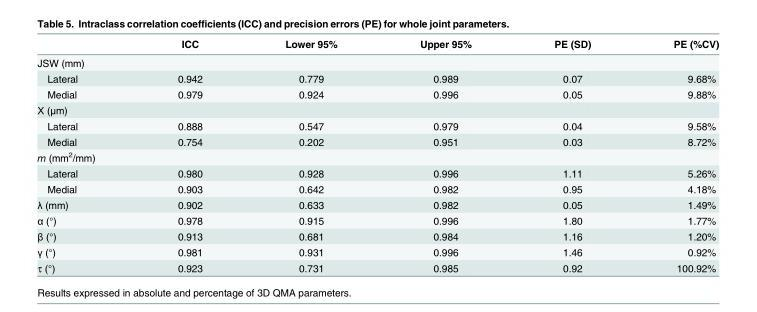table: (36, 37, 718, 273)
table column: (377, 37, 512, 273), (243, 37, 377, 273), (512, 37, 631, 273), (135, 37, 243, 273), (36, 37, 135, 273), (631, 37, 718, 273)
table column header: (36, 37, 718, 52)
table projected row header: (36, 52, 718, 70), (36, 148, 718, 165), (36, 101, 718, 117)
table row: (36, 52, 718, 70), (36, 148, 718, 165), (36, 70, 718, 86), (36, 101, 718, 117), (36, 117, 718, 133), (36, 180, 718, 196), (36, 196, 718, 212), (36, 212, 718, 228), (36, 243, 718, 259), (36, 37, 718, 52), (36, 86, 718, 101), (36, 133, 718, 148), (36, 165, 718, 180), (36, 228, 718, 243), (36, 259, 718, 273)
